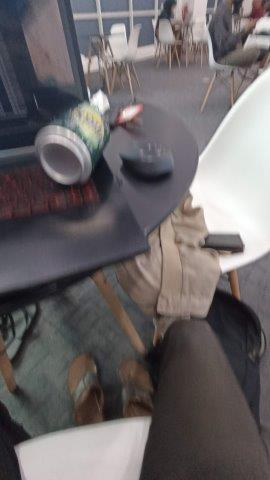kaleng: (35, 102, 110, 185)
